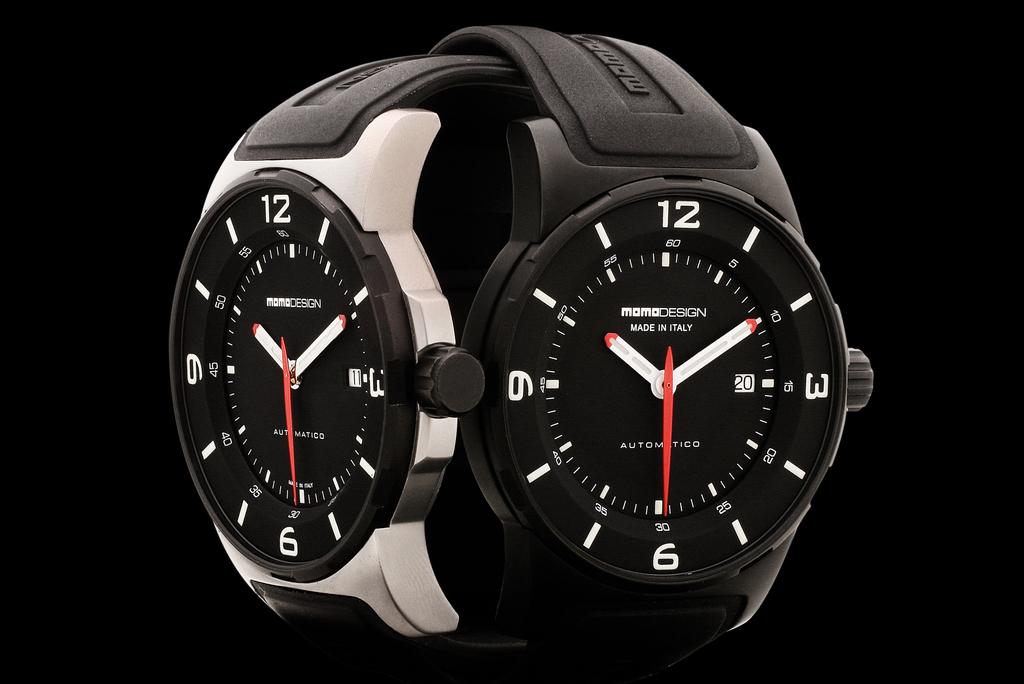watch: (426, 22, 874, 666)
